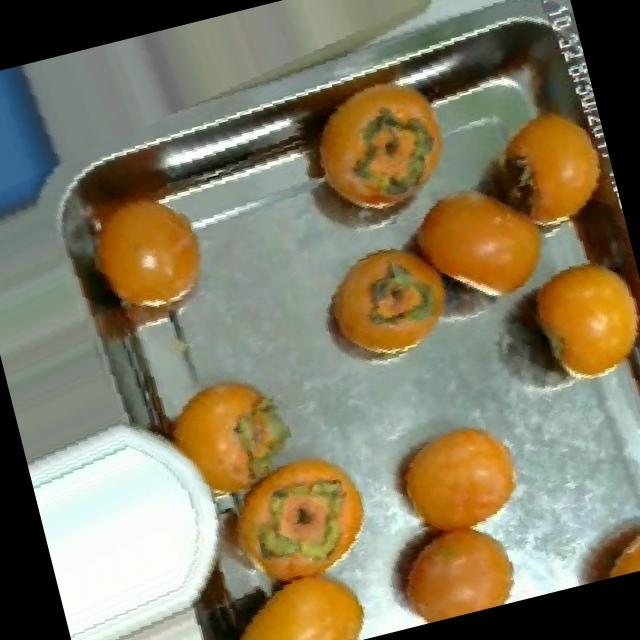Fruit: (26, 121, 240, 349), (373, 145, 579, 335), (271, 66, 478, 252), (436, 82, 626, 264), (140, 350, 316, 528), (292, 222, 473, 385), (362, 398, 546, 558), (218, 428, 392, 593), (486, 233, 640, 412), (356, 489, 537, 634), (202, 544, 385, 640), (558, 493, 640, 587)
